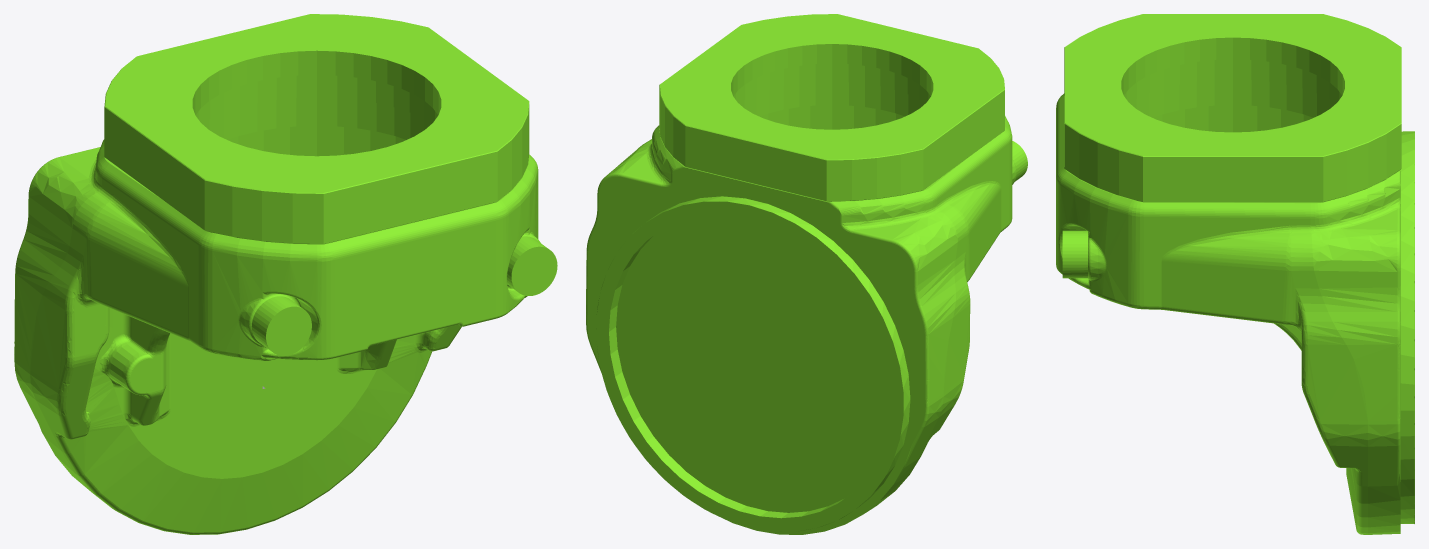
The picture shows the model from 3 angles, left to right: view 1: azimuth 30°, elevation 25°; view 2: azimuth 150°, elevation 25°; view 3: azimuth 270°, elevation 25°; orthographic projection. The views are drawn at different scales.
Visible parts, largest first — view 1: node; view 2: node; view 3: node.
Part boxes in pixels (left/top/right/bottom): node: left=14, top=14, right=557, bottom=534; node: left=586, top=14, right=1027, bottom=534; node: left=1056, top=14, right=1414, bottom=534.
Size of the model in its own units: 138 by 149 by 112.
